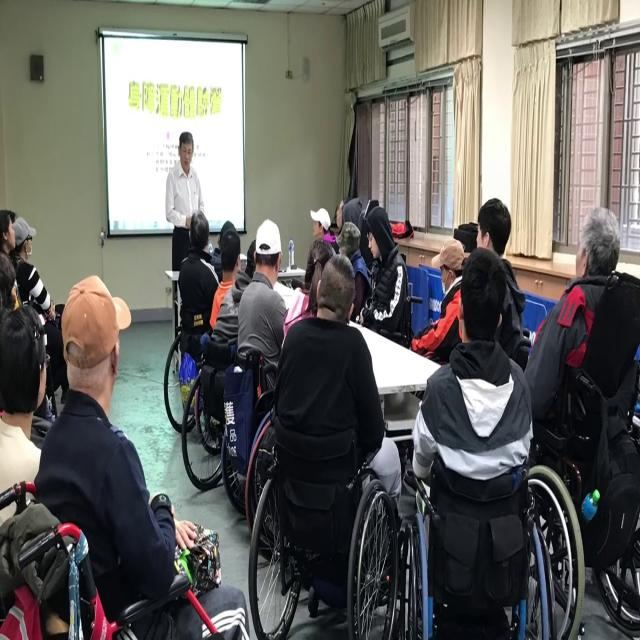wheelchairs: (242, 424, 402, 640), (391, 460, 575, 640), (534, 388, 640, 640), (157, 290, 287, 473), (180, 346, 282, 506)
